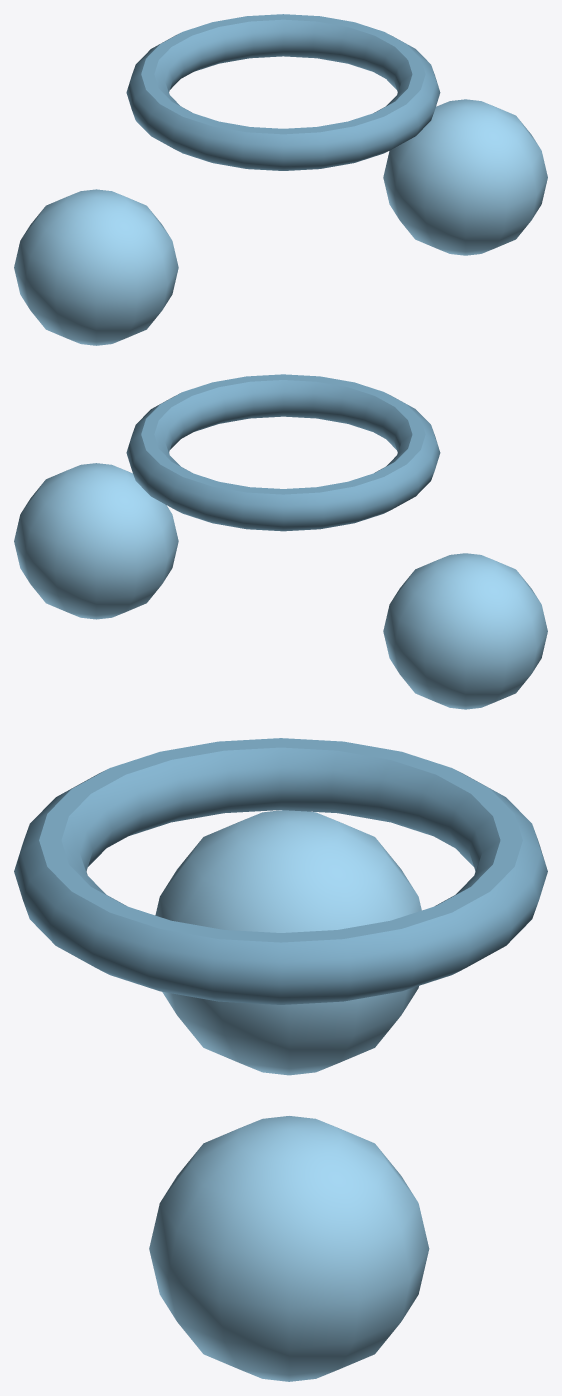
File: Top_Tshirt.fbx
3 views of the same model, one above another, from view 1: azimuth 30°, elevation 25°; view 2: azimuth 150°, elevation 25°; view 3: azimuth 270°, elevation 25° (orthographic). The views are drawn at different scales.
Visible parts, largest first — view 1: Collar, Sleeve.001, Sleeve; view 2: Collar, Sleeve.001, Sleeve; view 3: Collar, Sleeve, Sleeve.001.
Part boxes in pixels (box(x1,y1,x2,y2)): Collar: box(126, 14, 440, 170); Sleeve.001: box(14, 189, 178, 345); Sleeve: box(383, 99, 547, 255); Collar: box(126, 374, 440, 531); Sleeve.001: box(383, 553, 547, 709); Sleeve: box(14, 463, 178, 619); Collar: box(14, 738, 547, 1004); Sleeve: box(149, 1116, 429, 1381); Sleeve.001: box(155, 810, 421, 1075).
Size of the model in its own units: 61 by 25.09 by 32.4.
